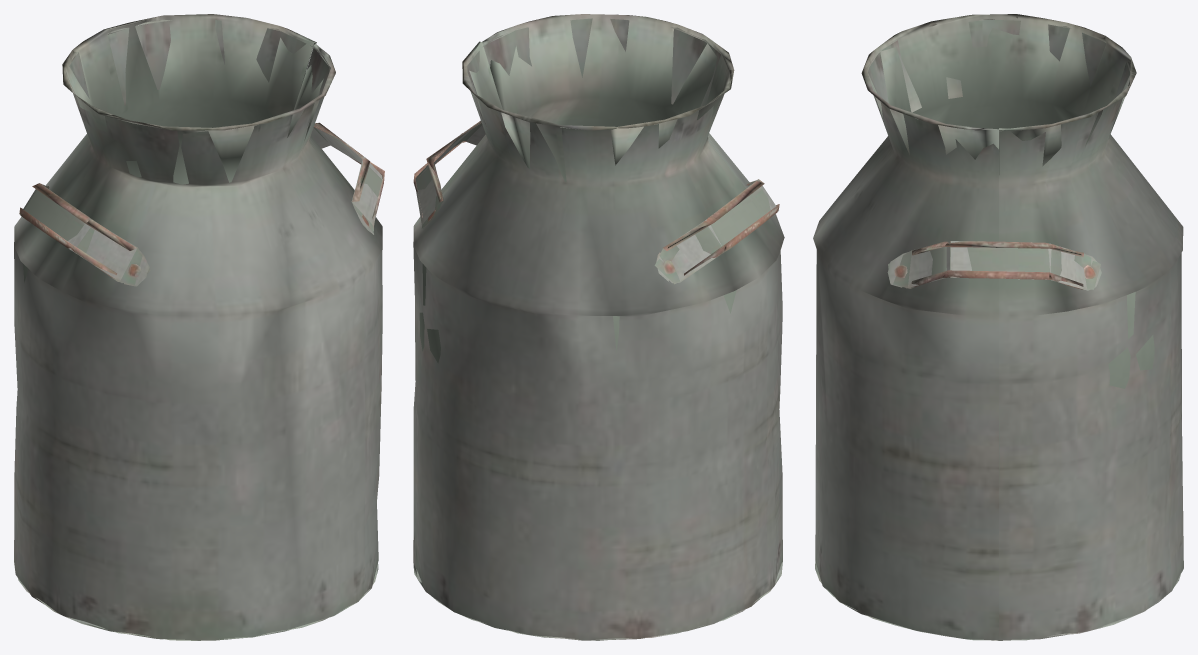
File: metal_jug.glb
The picture shows the model from 3 angles, left to right: view 1: azimuth 30°, elevation 25°; view 2: azimuth 150°, elevation 25°; view 3: azimuth 270°, elevation 25°; orthographic projection.
Visible parts, largest first — view 1: metal_jug; view 2: metal_jug; view 3: metal_jug.
Part boxes in pixels (bbox=[...]): metal_jug: bbox=[14, 14, 384, 640]; metal_jug: bbox=[413, 14, 784, 640]; metal_jug: bbox=[813, 14, 1183, 640].
Bounding box in the file's own units: 0.1963 × 0.2876 × 0.1962.
Materials: 1 (1 with a texture image).
